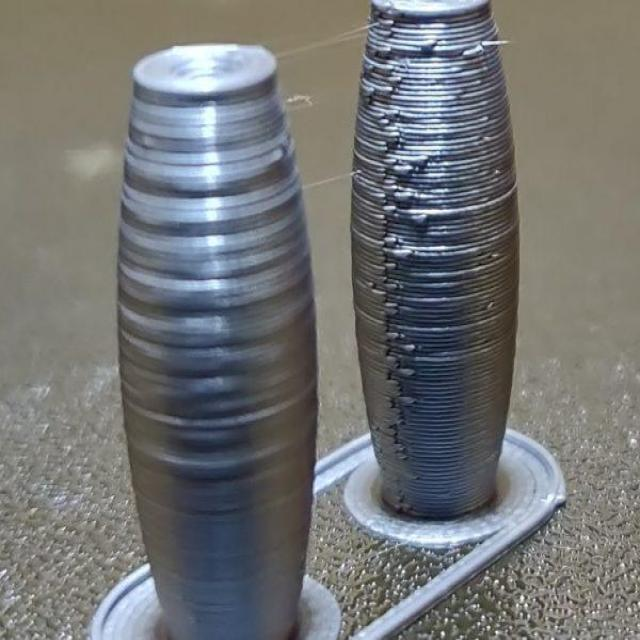spaghetti: (358, 8, 499, 520)
